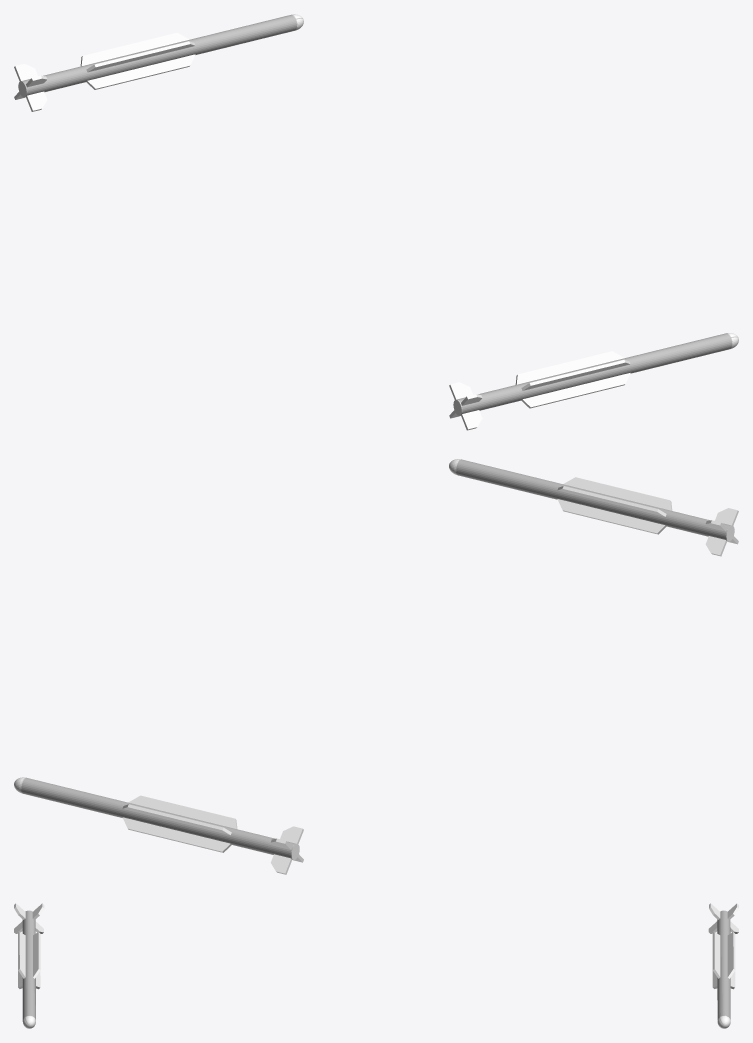
File: aam5lf2a16.glb
3 views of the same model, one above another, from view 1: azimuth 30°, elevation 25°; view 2: azimuth 150°, elevation 25°; view 3: azimuth 270°, elevation 25° (orthographic). The views are drawn at different scales.
Visible parts, largest first — view 1: 円柱.003, 円柱.006; view 2: 円柱.003, 円柱.006; view 3: 円柱.003, 円柱.006.
Part boxes in pixels (x1=…): 円柱.003: x1=14, y1=14, x2=303, y2=111; 円柱.006: x1=449, y1=333, x2=738, y2=430; 円柱.003: x1=14, y1=777, x2=303, y2=874; 円柱.006: x1=449, y1=459, x2=738, y2=556; 円柱.003: x1=708, y1=903, x2=738, y2=1028; 円柱.006: x1=14, y1=903, x2=44, y2=1028.
Bounding box in the file's own units: 4.09 × 0.477 × 11.45.
3 materials, 1 textured.
